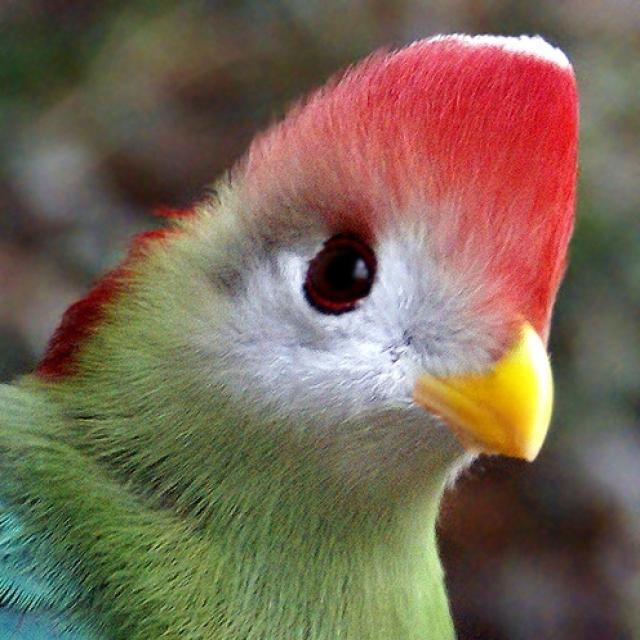bird: (0, 28, 581, 639)
